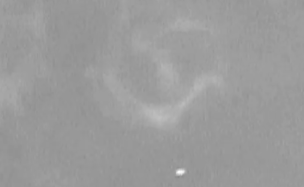Target: (176, 169, 184, 174)
